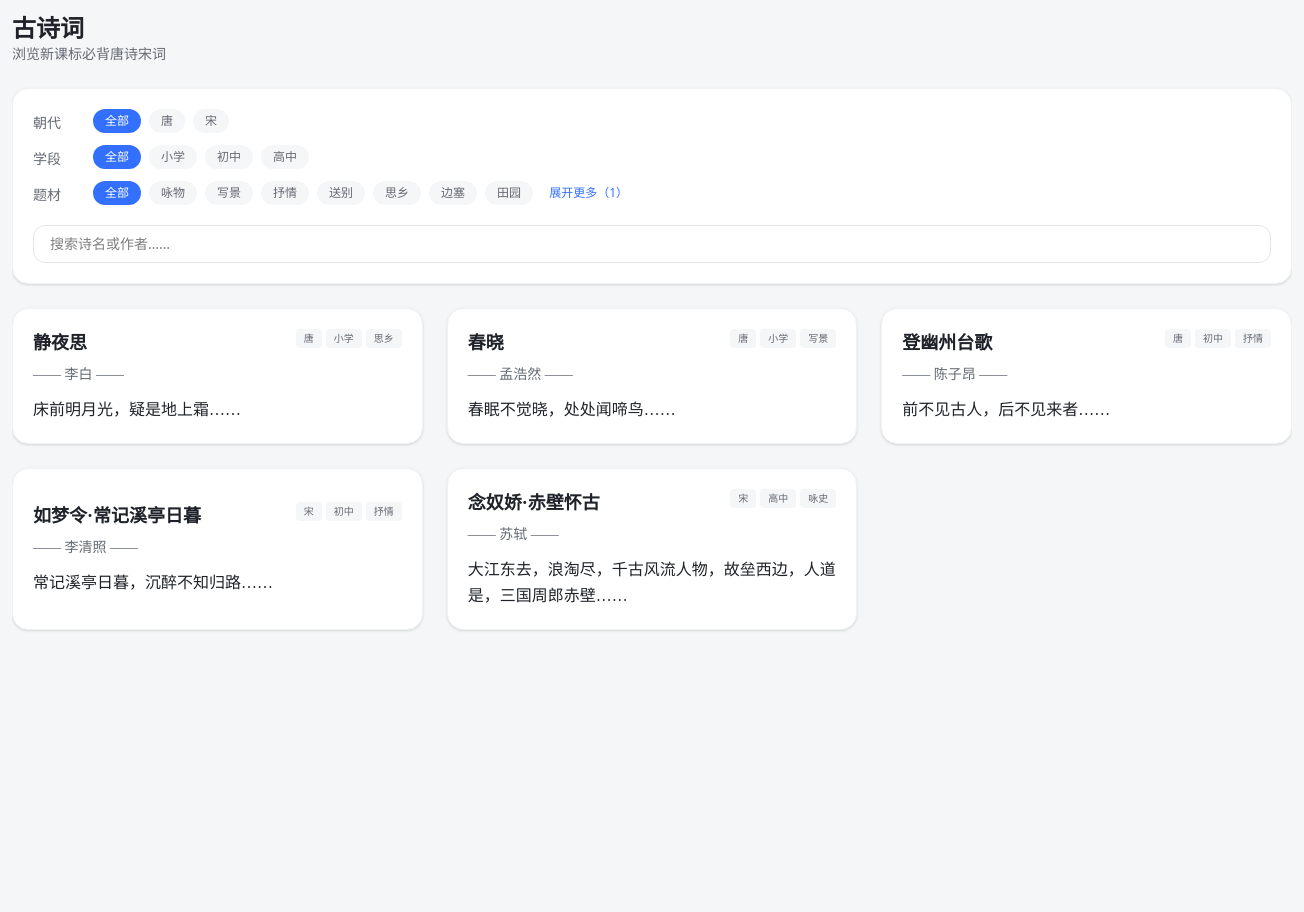
Test case: PoetryView › clicking 唐 dynasty chip narrows the list
What coordinates should you click on to do the following:
click the button "唐"
I would click on:
 (167, 121)
Its box is [149,109,185,133].
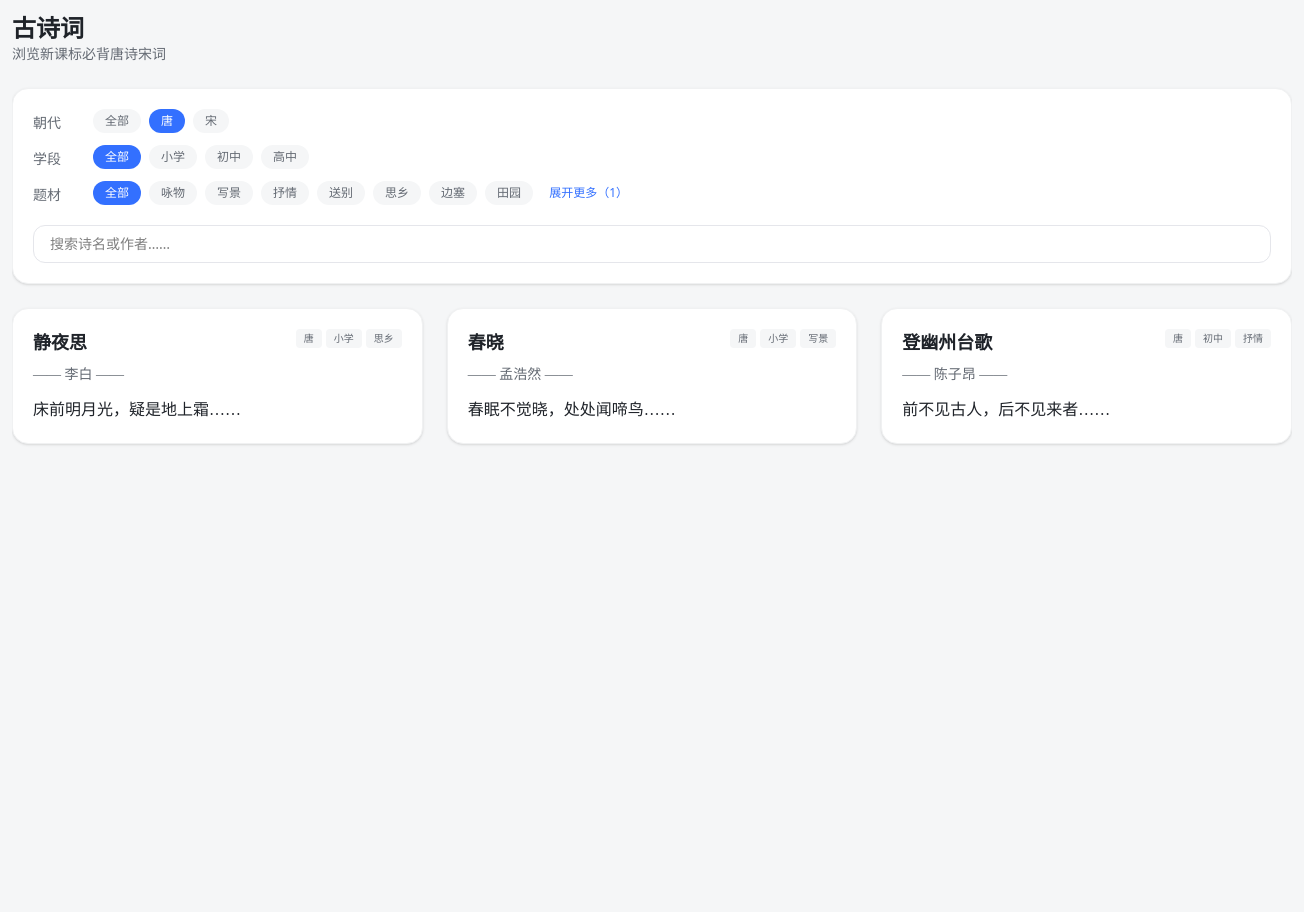
Expected: the button "念奴娇·赤壁怀古" is gone
